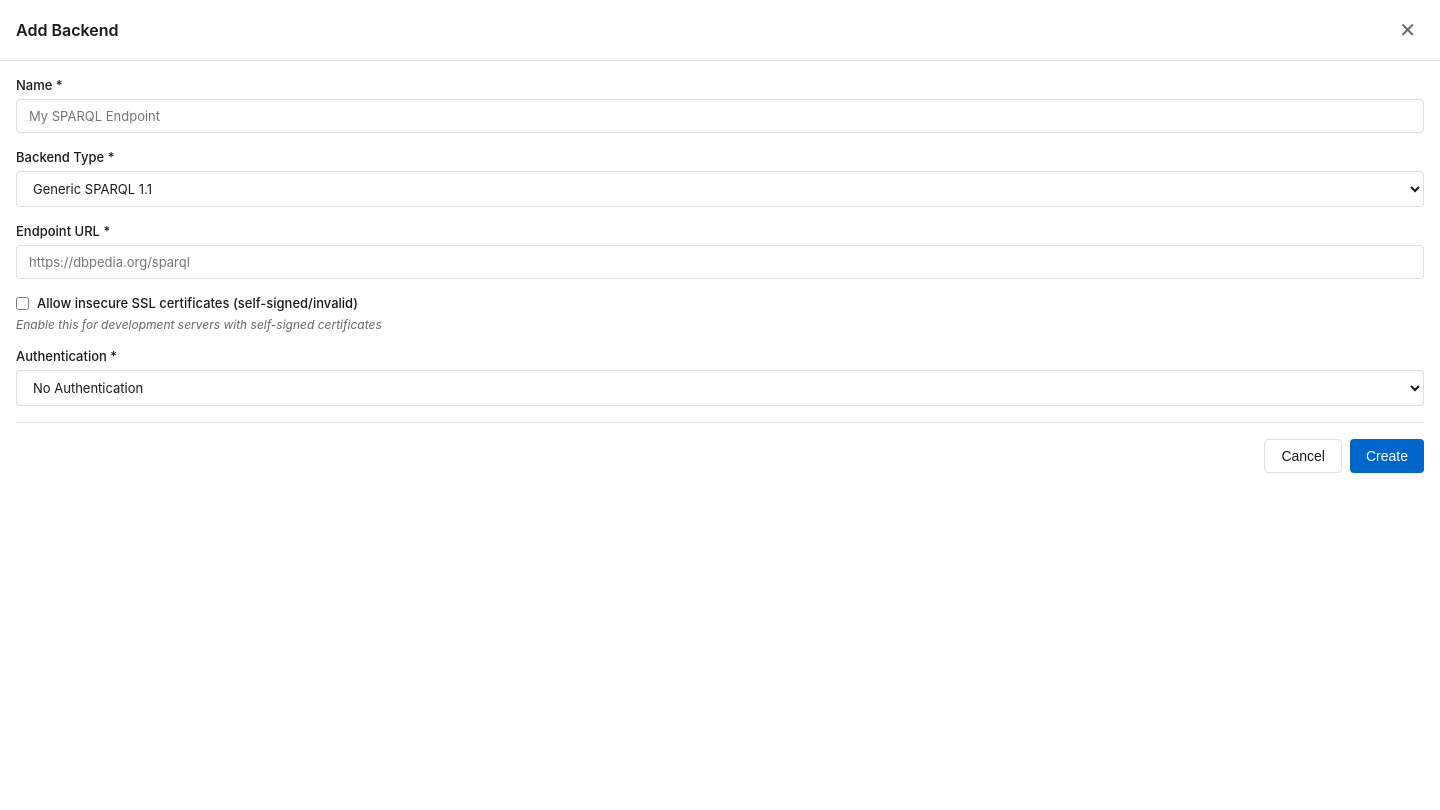
Test case: ConnectionForm - GraphStudio › shows the API error message
Type "My EP" into the field with id "name" at (720, 116), box [16,99,1424,133]
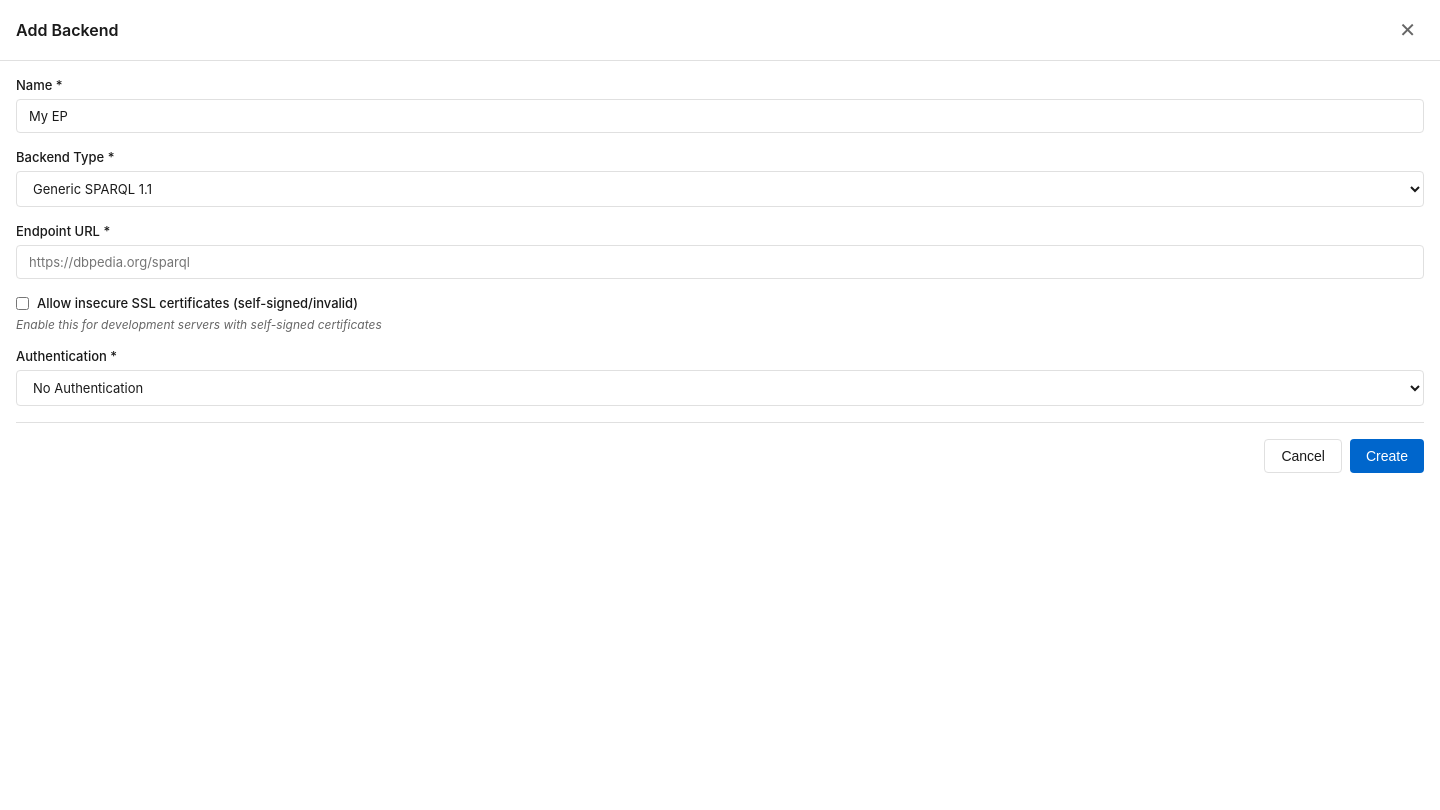
Type "https://ex.org/sparql" into the field with id "endpoint" at (720, 262), box [16,245,1424,279]
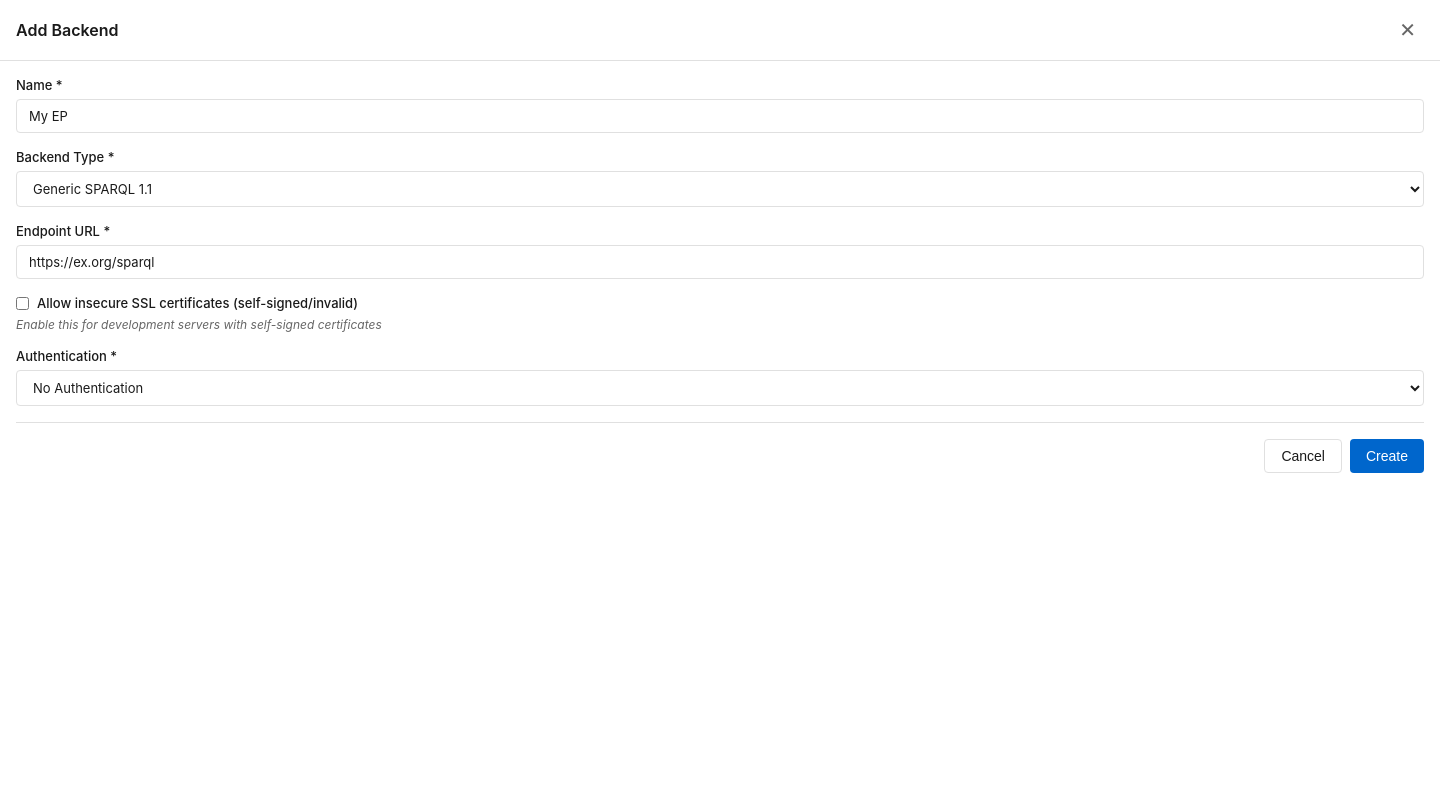
Select "Altair Graph Studio" in the dropdown with id "type" at (720, 189), box [16,171,1424,207]
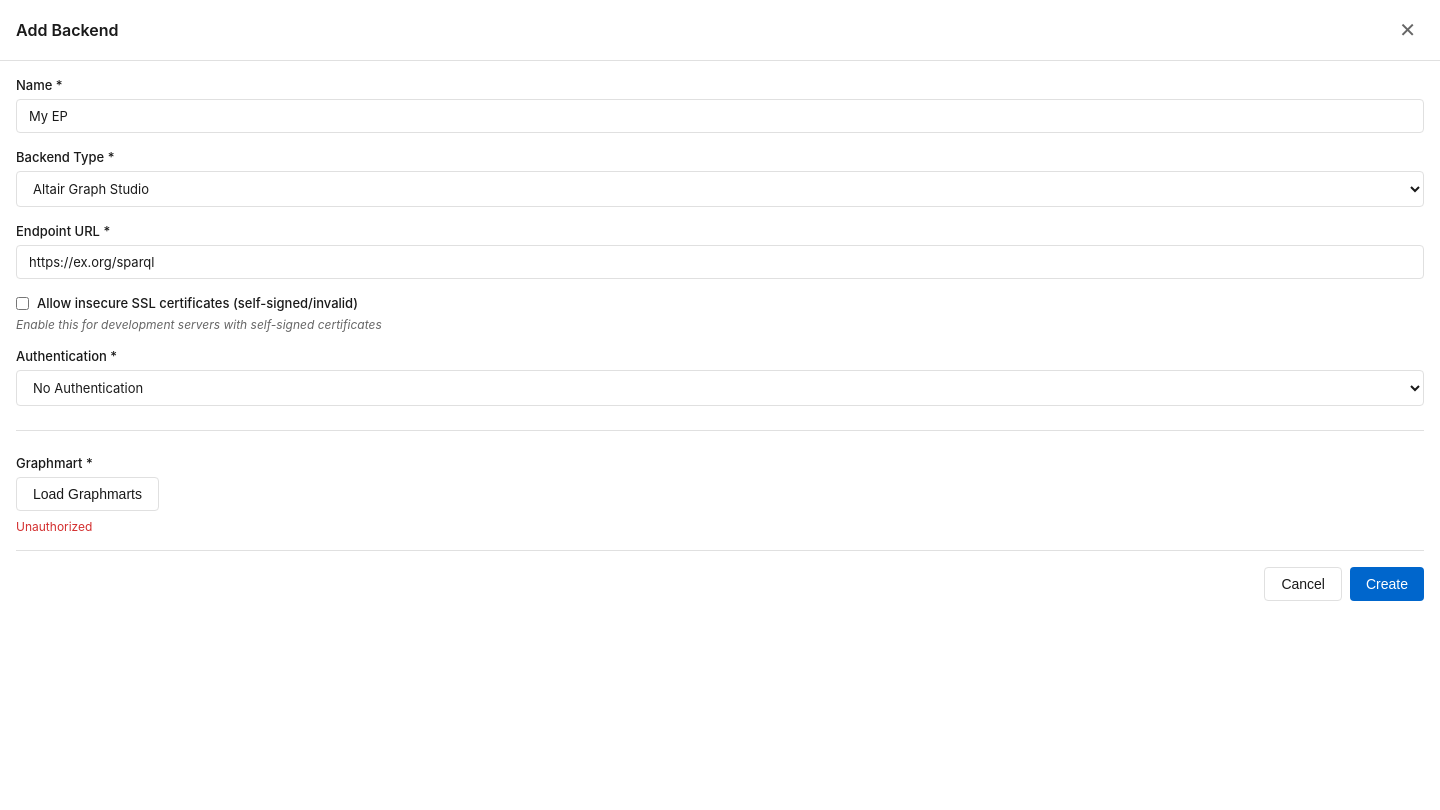
Now the text "Unauthorized" is shown, box [16,519,92,534]
